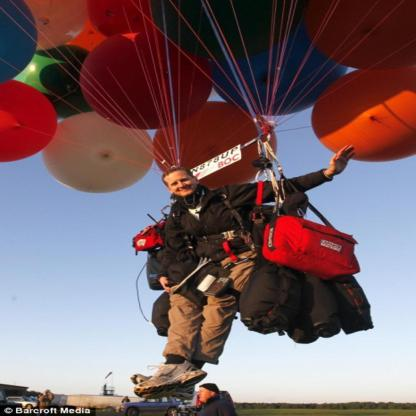face: (165, 173, 197, 197), (199, 387, 211, 402)
